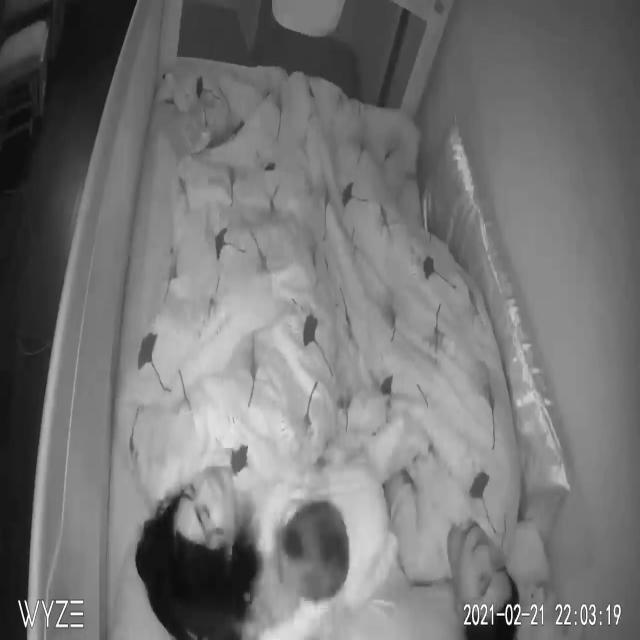baby: (256, 0, 401, 640)
